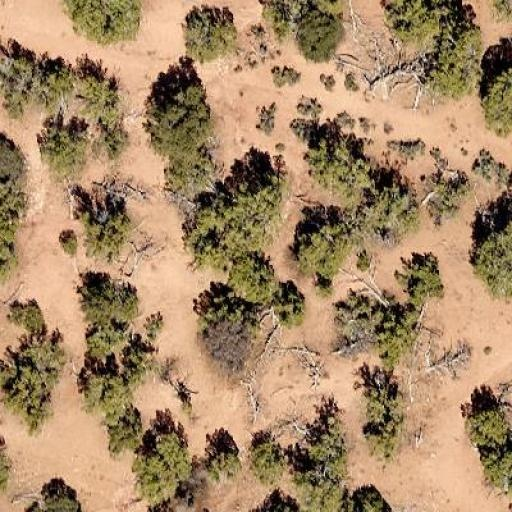tree-top: (190, 176, 278, 262), (142, 71, 218, 159), (286, 216, 356, 282), (436, 2, 483, 100), (198, 298, 254, 380), (307, 130, 374, 198), (294, 422, 354, 493), (0, 138, 30, 272), (364, 176, 428, 238), (178, 4, 241, 64), (138, 422, 201, 481), (78, 273, 139, 332), (6, 48, 63, 110), (70, 0, 147, 44), (74, 365, 132, 420), (0, 364, 56, 420), (82, 203, 140, 257), (472, 223, 512, 300), (34, 121, 91, 173), (223, 253, 281, 303), (75, 68, 126, 122), (298, 3, 346, 60), (464, 396, 512, 450), (20, 327, 71, 376), (390, 3, 446, 47), (240, 430, 290, 477), (358, 379, 401, 433), (475, 66, 512, 128), (402, 256, 446, 308), (102, 407, 147, 454), (271, 287, 309, 331), (11, 297, 50, 339), (204, 442, 241, 482), (36, 480, 80, 512), (469, 153, 506, 189), (483, 442, 512, 487), (54, 229, 86, 259), (353, 488, 391, 512), (272, 63, 303, 89)
